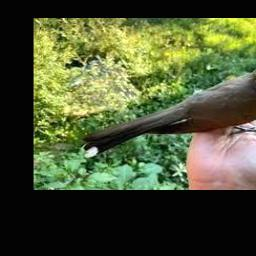Cuckoo: (83, 63, 256, 158)
